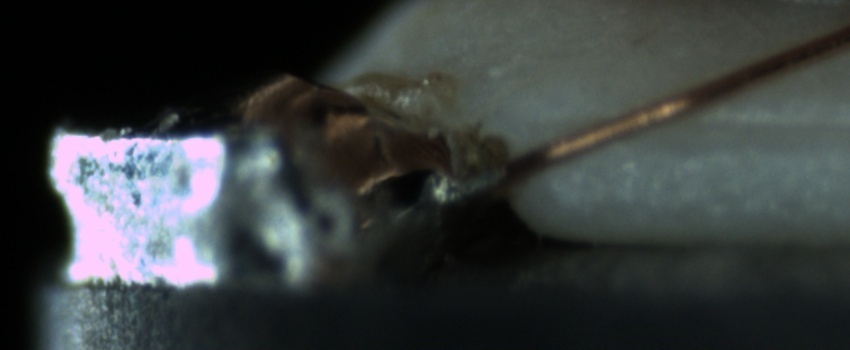DL: (627, 88, 846, 163)
